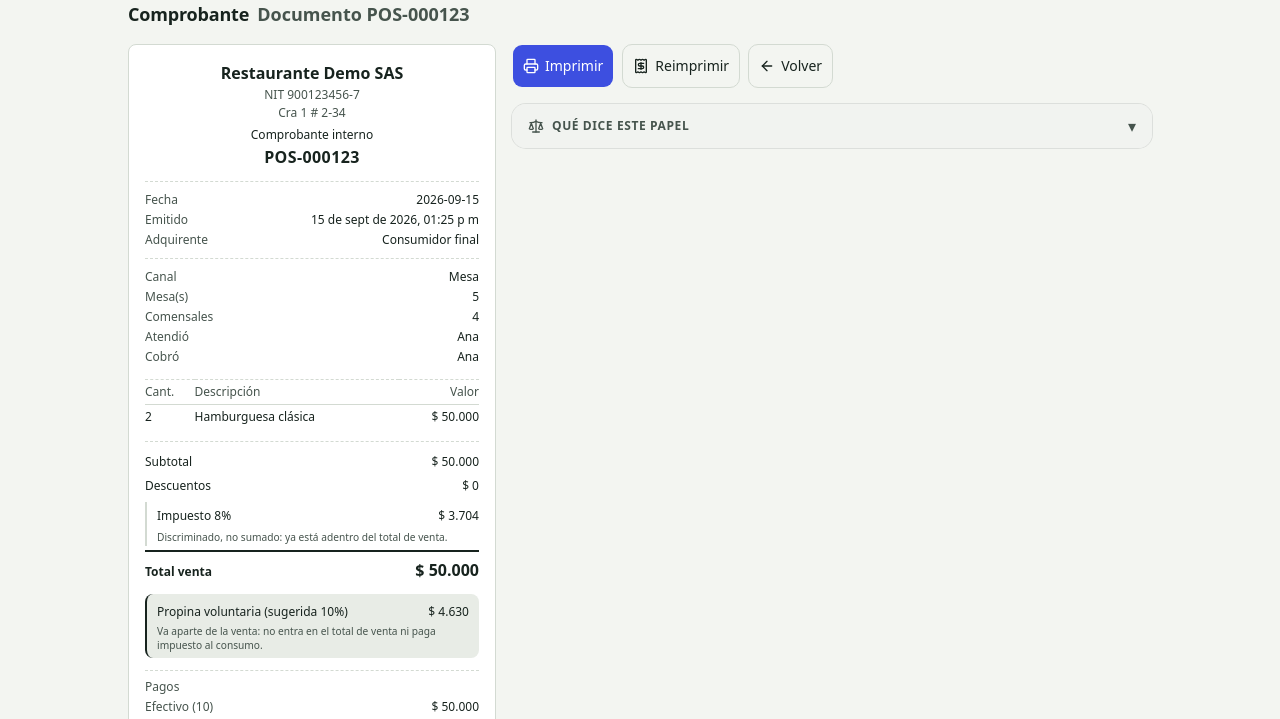
it: DocumentPage › reimprimir queda contado por el servidor (reprint_count)
Click the button "Reimprimir" at (681, 66), box [622, 44, 740, 88]
(page scrolled)
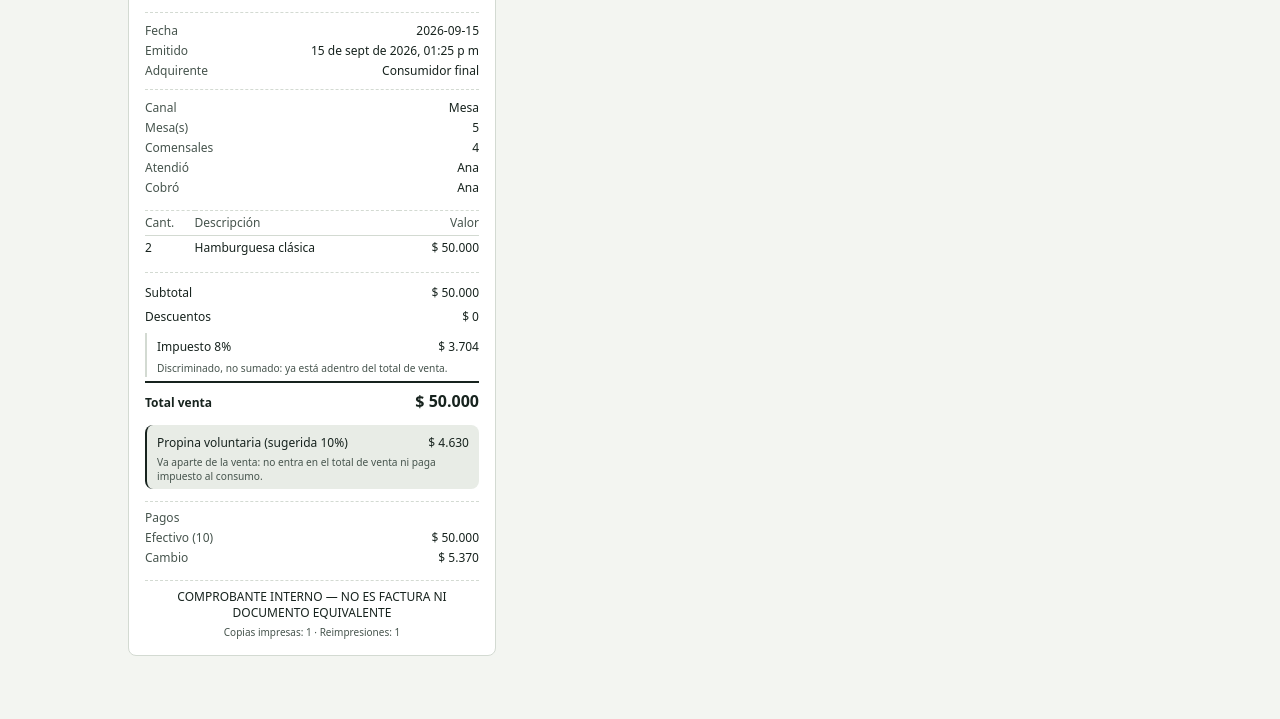
Expected: the text "Copias impresas: 1 · Reimpresiones: 1" is shown, [224, 625, 400, 639]
